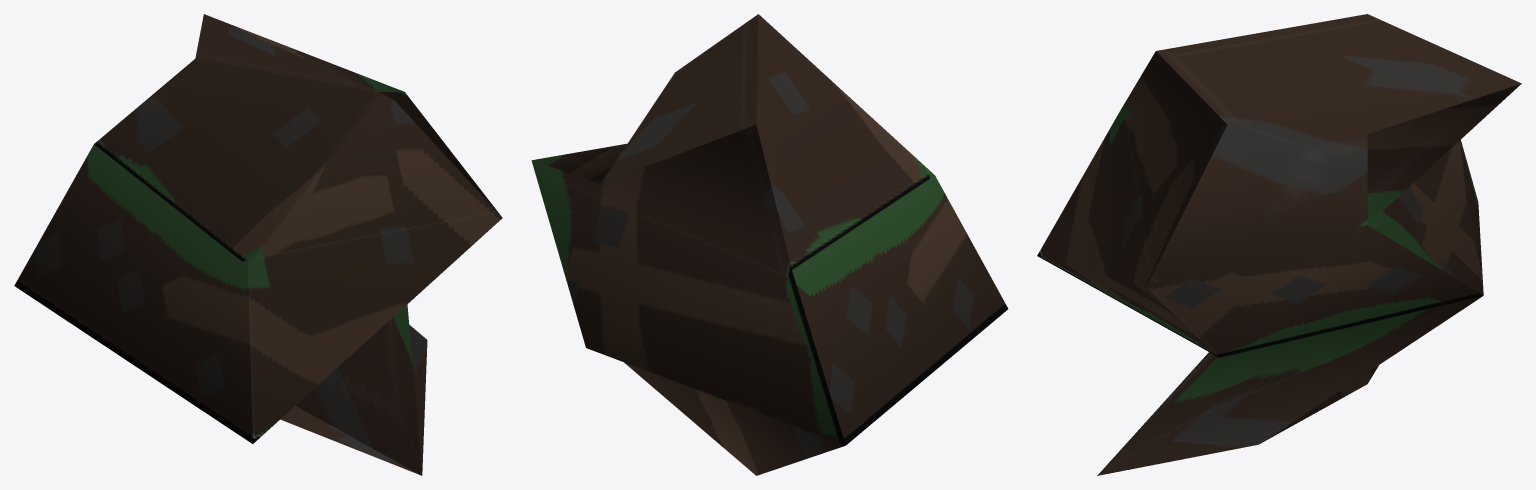
File: DirtParticle.fbx
3 renders of one model, left to right at view 1: azimuth 30°, elevation 25°; view 2: azimuth 150°, elevation 25°; view 3: azimuth 270°, elevation 25°, orthographic. The views are drawn at different scales.
Parts seen in each view (by area): view 1: Dirt_Particle; view 2: Dirt_Particle; view 3: Dirt_Particle.
Part boxes in pixels (left/top/right/bottom): Dirt_Particle: left=14, top=14, right=502, bottom=475; Dirt_Particle: left=531, top=14, right=1008, bottom=475; Dirt_Particle: left=1037, top=14, right=1521, bottom=475.
Size of the model in its own units: 3.19 by 3.28 by 3.46.
1 material, 1 textured.
